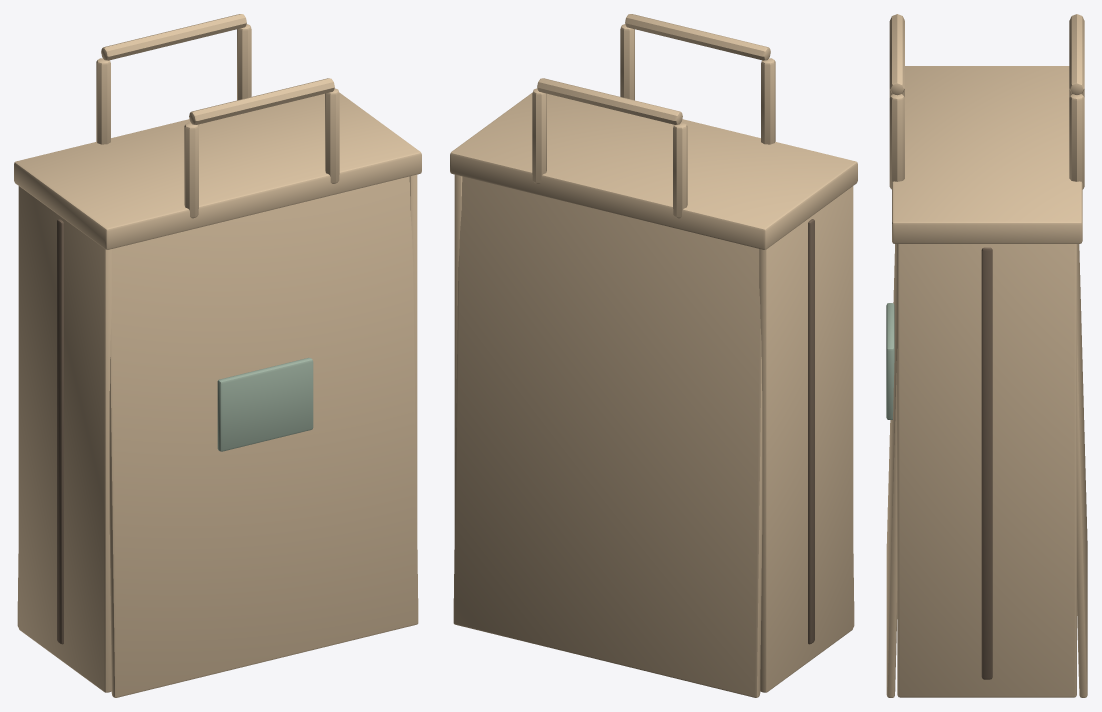
File: bag_closed.glb
The picture shows the model from 3 angles, left to right: view 1: azimuth 30°, elevation 25°; view 2: azimuth 150°, elevation 25°; view 3: azimuth 270°, elevation 25°; orthographic projection. The views are drawn at different scales.
Visible parts, largest first — view 1: bag_closed; view 2: bag_closed; view 3: bag_closed.
Part boxes in pixels (x1,y1,x2,y2): bag_closed: (14, 14, 421, 697); bag_closed: (450, 14, 857, 697); bag_closed: (886, 14, 1087, 697).
Bounding box in the file's own units: 0.272 × 0.4595 × 0.1457.
